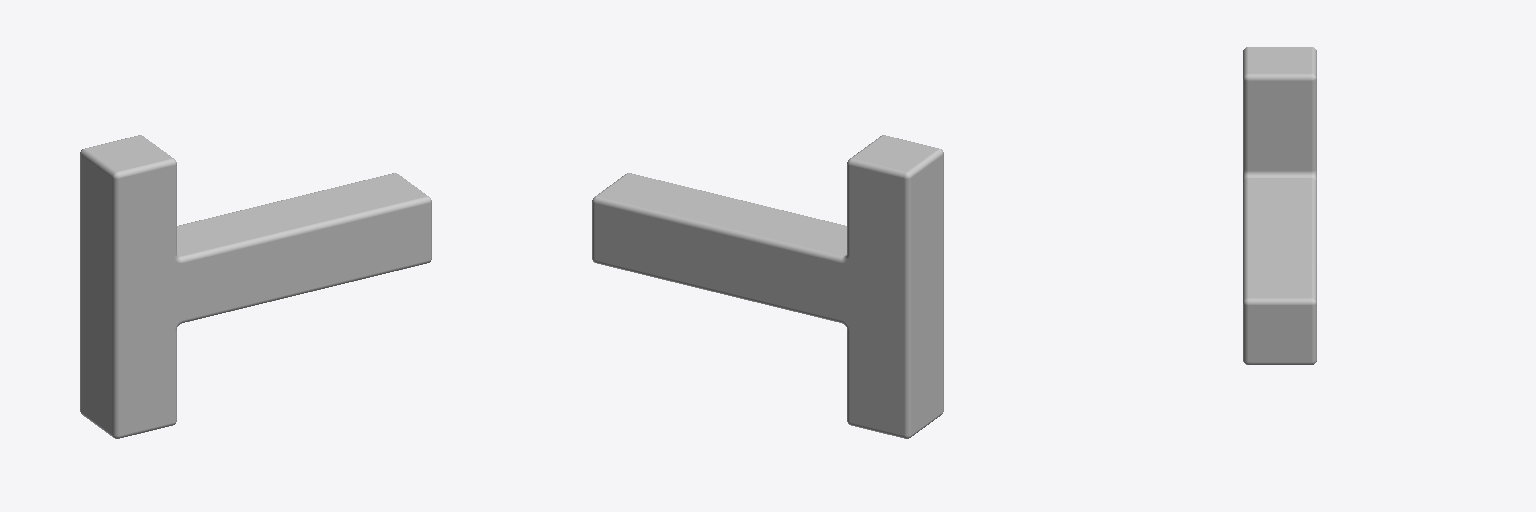
Rendered from push_t_white.obj.
The picture shows the model from 3 angles: view 1: azimuth 30°, elevation 25°; view 2: azimuth 150°, elevation 25°; view 3: azimuth 270°, elevation 25°; orthographic projection.
Visible parts, largest first — view 1: Part 1; view 2: Part 1; view 3: Part 1.
Part boxes in pixels (x1,y1,x2,y2): Part 1: (80,135,431,438); Part 1: (592,135,943,438); Part 1: (1243,47,1316,364).
Bounding box in the file's own units: 0.2 × 0.16 × 0.04.